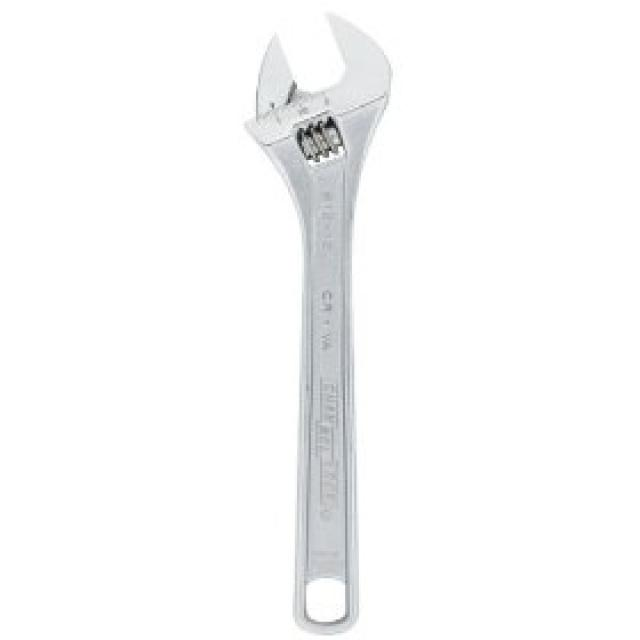wrench: (220, 6, 442, 640)
